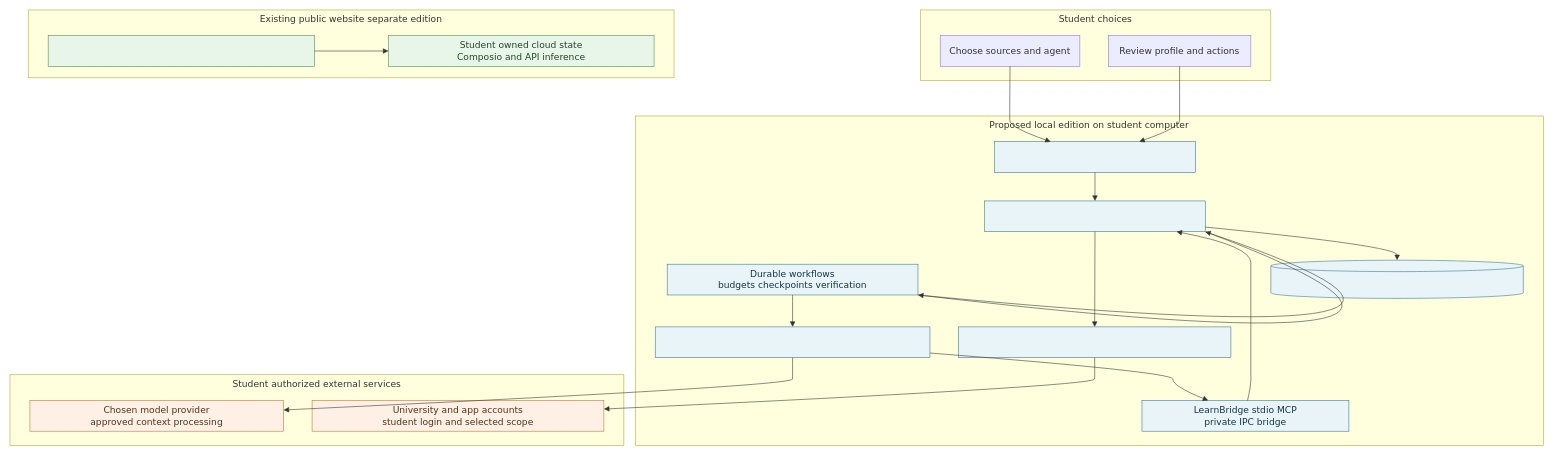
This 1553x455 diagram has some shape labels left out. The shapes that lost their labels are listed below. From the top down, each one's centre as x and y in pixels, then its label:
point (181, 50): LearnBridge website Supabase verified student identity
point (1095, 156): Local dashboard paired browser session
point (1094, 216): Private runtime policy and capability broker
point (1396, 279): SQLite and managed files source provenance and revisions
point (792, 342): Official Codex or Claude workspace or supported adapter
point (1094, 342): Approved adapters Avenue files apps browser documents
